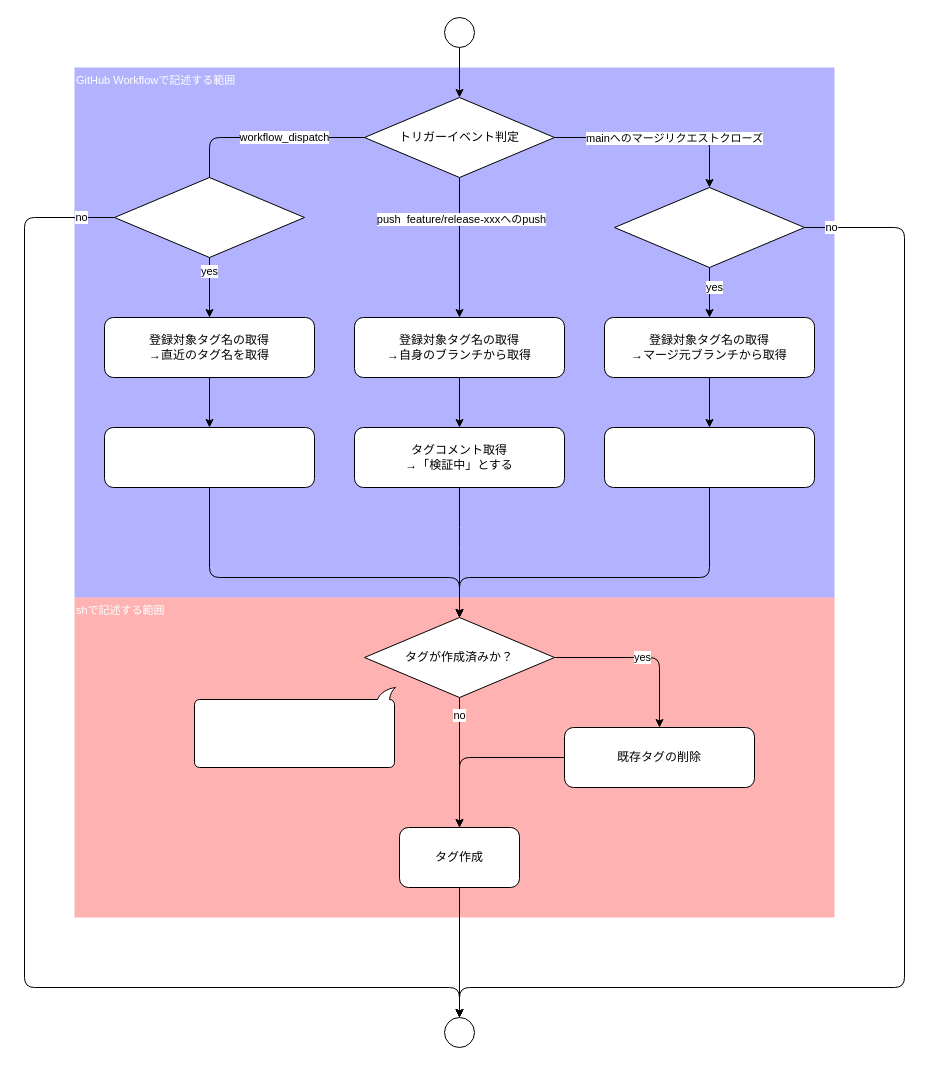
The diagram is 930 pixels wide and 1065 high, and some of its shapes have lost their labels. The shapes that lost their labels are listed below. From the top down, each one's box as (x1, y1, x2, y2) in pixels, then its label:
(114, 176, 304, 258): mainブランチに 対する実行か？
(614, 186, 804, 268): マージされたか？
(104, 426, 314, 488): タグコメント取得 →直近のタグ注釈と同じ
(604, 426, 814, 488): タグコメント取得 →「リリース：タグ名」とする
(194, 686, 394, 768): mainへのPush/マージ時は、 作成対象のタグは必ず存在するため、 存在チェックは必要はないが、 処理の共通化のため実施する
